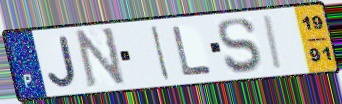I: (149, 23, 172, 83), (262, 13, 285, 72)
J: (46, 34, 79, 89)
L: (170, 24, 215, 77)
N: (75, 25, 128, 90)
S: (215, 16, 263, 76)
